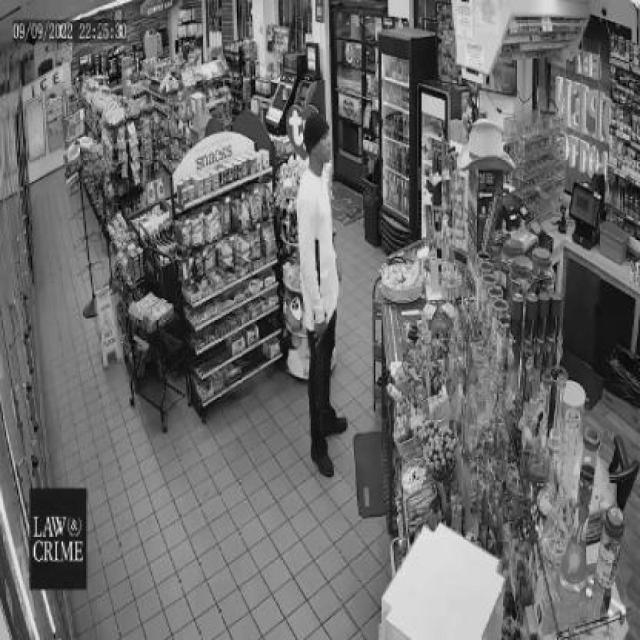weapon: (305, 238, 323, 465)
